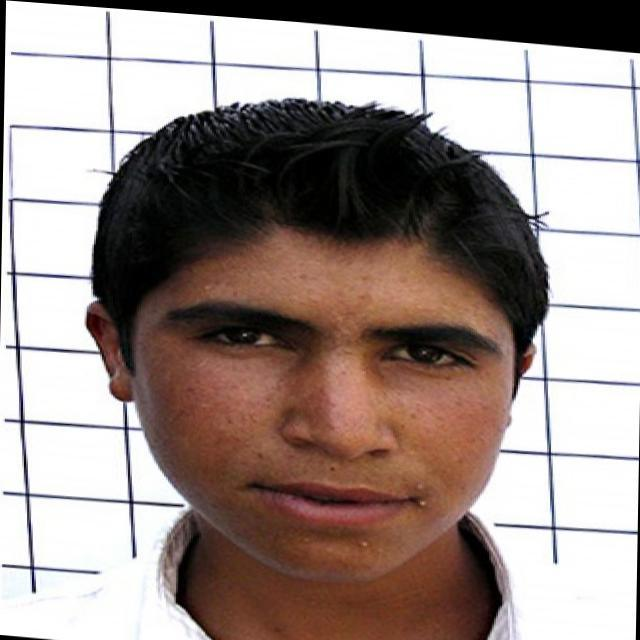Nonhelmet: (82, 93, 556, 586)
